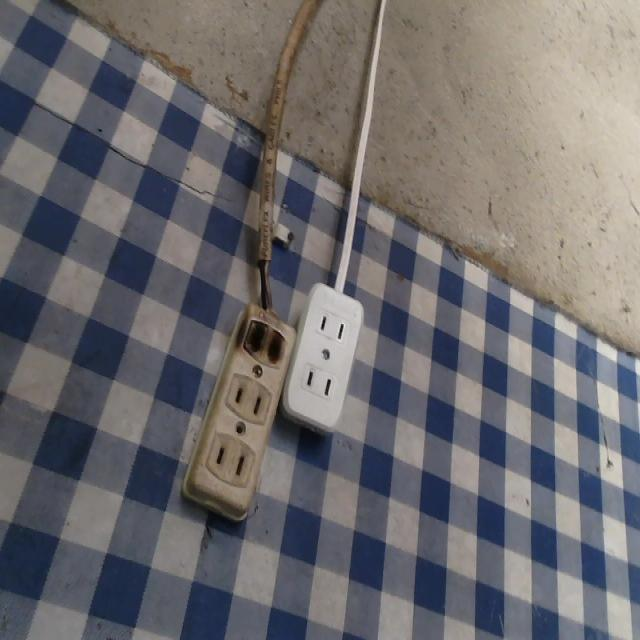-: (233, 307, 290, 373)
